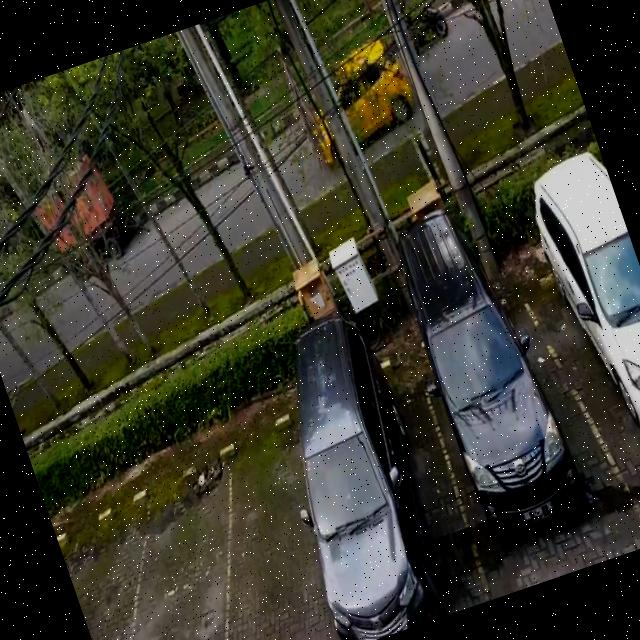empty: (174, 438, 346, 640), (86, 462, 268, 640)
occupied: (393, 262, 634, 599), (253, 348, 496, 640), (532, 228, 640, 540)
